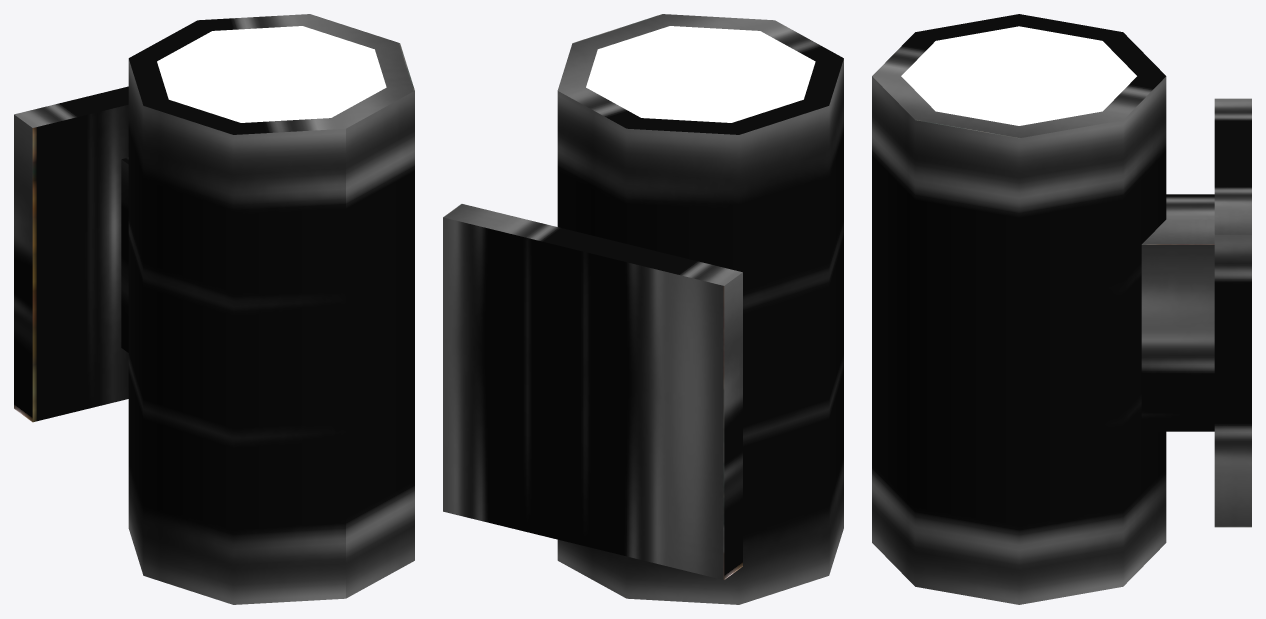
Rendered from wall_lightB.fbx.
3 views of the same model, side by side, from view 1: azimuth 30°, elevation 25°; view 2: azimuth 150°, elevation 25°; view 3: azimuth 270°, elevation 25° (orthographic).
Visible parts, largest first — view 1: wall_lightA; view 2: wall_lightA; view 3: wall_lightA.
Boxes of the visible parts, x1,y1,x2,y2 form: wall_lightA: [14, 14, 414, 604]; wall_lightA: [443, 14, 843, 604]; wall_lightA: [872, 14, 1251, 604].
Size of the model in its own units: 18.41 by 29.4 by 21.69.
1 material, 1 textured.
